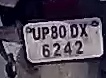0: (59, 24, 68, 39)
2: (52, 41, 62, 57), (74, 41, 84, 57)
4: (63, 40, 76, 59)
6: (40, 42, 51, 60)
8: (50, 23, 58, 42)
D: (68, 22, 79, 41)
P: (42, 28, 50, 42)
U: (31, 27, 41, 44)
X: (77, 21, 91, 40)
